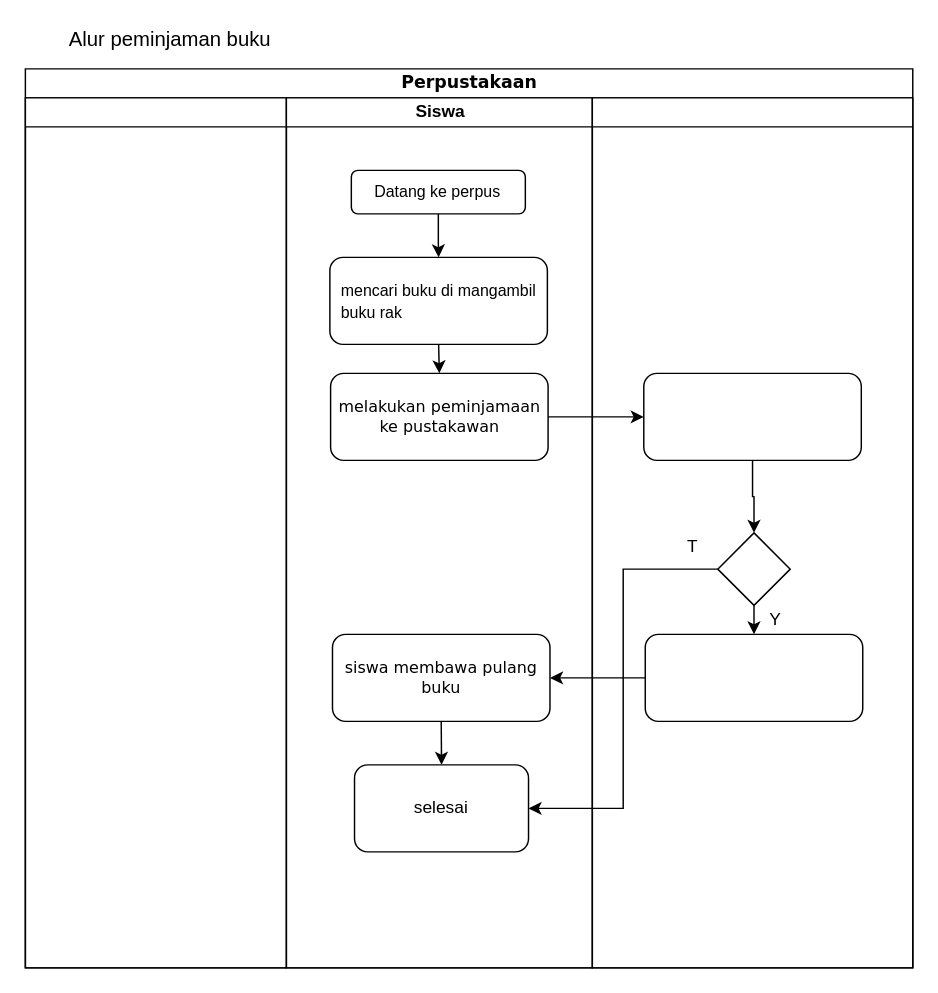
This 938x993 diagram has some shape labels left out. The box of each missing label's shape, as (x1, y1, x2, y2) in pixels:
Admin: (24, 96, 286, 968)
melakukan pencarian data anggota: (642, 372, 861, 460)
melakukan pendataan peminjaman: (644, 633, 863, 721)
Pustakawan: (591, 96, 913, 968)
